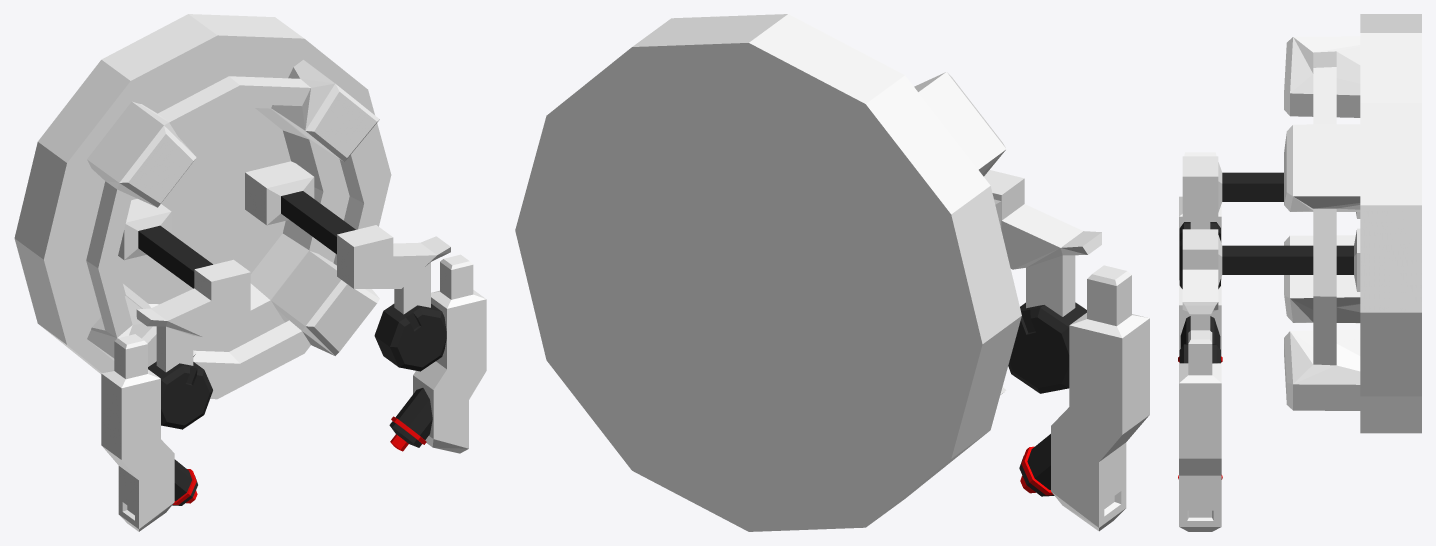
Rendered from MedicalArms_01.fbx.
3 views of the same model, side by side, from view 1: azimuth 30°, elevation 25°; view 2: azimuth 150°, elevation 25°; view 3: azimuth 270°, elevation 25° (orthographic). The views are drawn at different scales.
Parts seen in each view (by area): view 1: SM_Prop_MedicalArms_01; view 2: SM_Prop_MedicalArms_01; view 3: SM_Prop_MedicalArms_01.
Boxes of the visible parts, x1=… form: SM_Prop_MedicalArms_01: x1=14, y1=14, x2=486, y2=531; SM_Prop_MedicalArms_01: x1=515, y1=14, x2=1149, y2=531; SM_Prop_MedicalArms_01: x1=1178, y1=14, x2=1421, y2=531.
Bounding box in the file's own units: 181 × 188 × 99.53.
